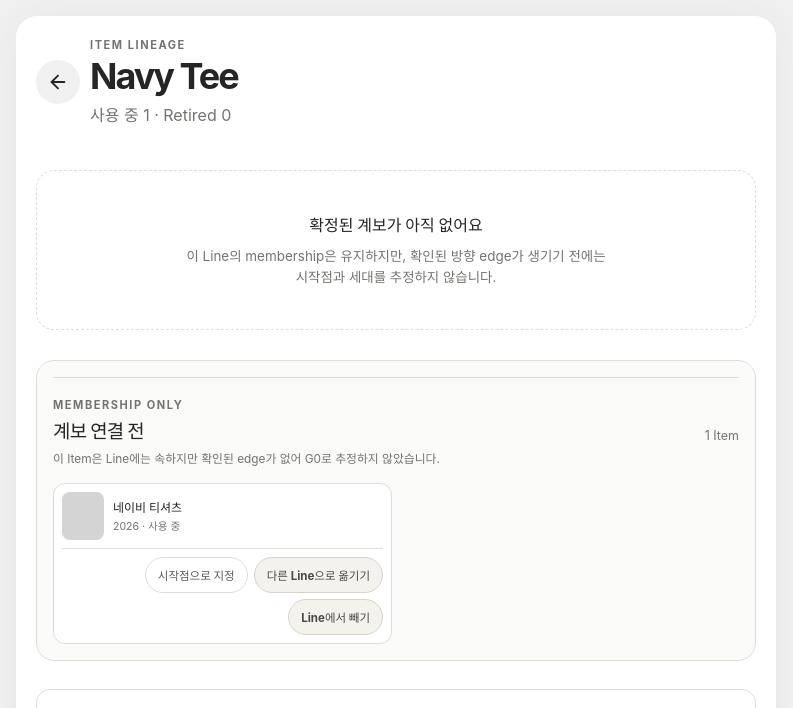
ReplacementLineagePage › moves a standalone member into G0 when it is explicitly designated as a start
The width and height of the screenshot is (793, 708).
Check: the heading "Navy Tee" is shown, box [90,58,238,96]
Click the button "시작점으로 지정" at point(196, 575), box [145,557,248,593]
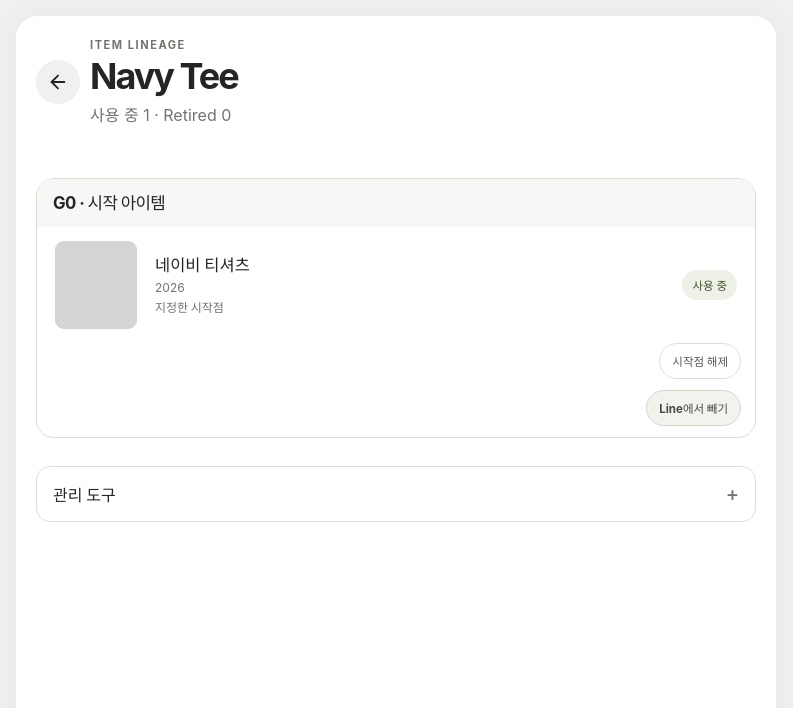
Check: the heading "G0 · 시작 아이템" is shown, box [53,192,165,214]
Check: the text "지정한 시작점" is shown, box [155,300,224,315]
Click the button "시작점 해제" at point(700, 361), box [659,343,741,379]
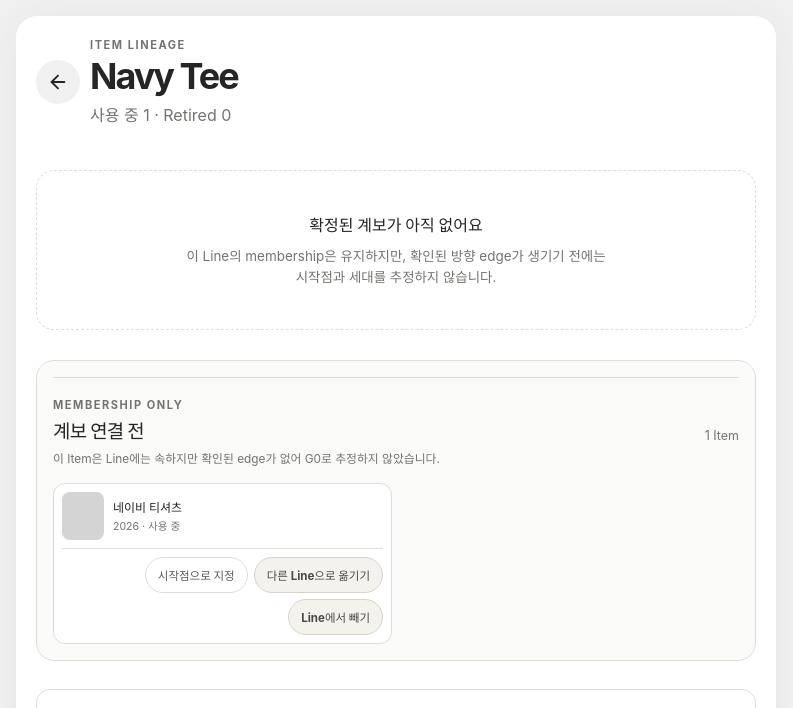
Check: the heading "계보 연결 전" is shown, box [53,420,144,443]
Check: the link "지정한 시작점" is gone
